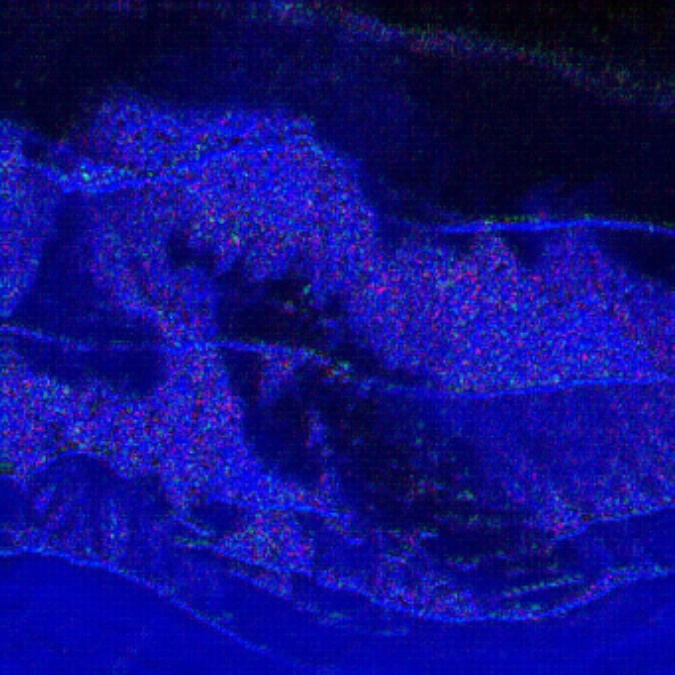rip_current: (136, 25, 538, 541)
